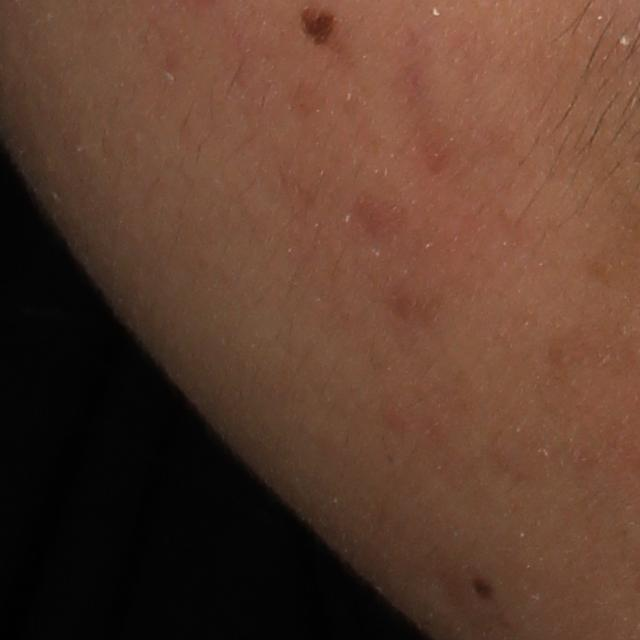nevus: (299, 4, 335, 49), (470, 581, 494, 600)
